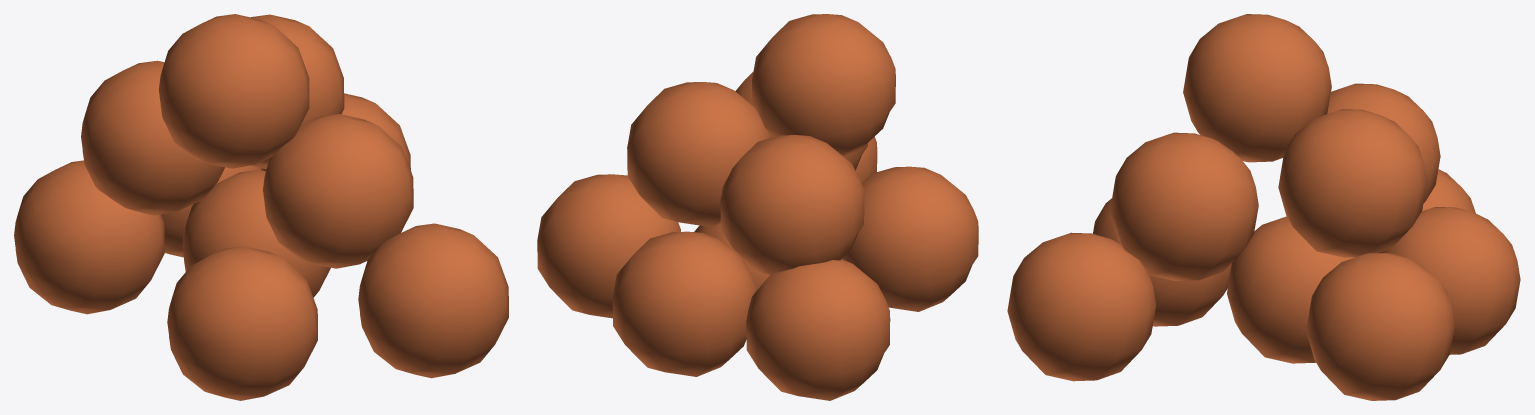
The model's file is Pearl.fbx.
3 views of the same model, side by side, from view 1: azimuth 30°, elevation 25°; view 2: azimuth 150°, elevation 25°; view 3: azimuth 270°, elevation 25° (orthographic). The views are drawn at different scales.
Visible parts, largest first — view 1: Coins.003; view 2: Coins.003; view 3: Coins.003.
Part boxes in pixels (bbox=[...]): Coins.003: bbox=[14, 14, 508, 400]; Coins.003: bbox=[537, 14, 978, 400]; Coins.003: bbox=[1007, 14, 1520, 400].
Size of the model in its own units: 171 by 145 by 213.
